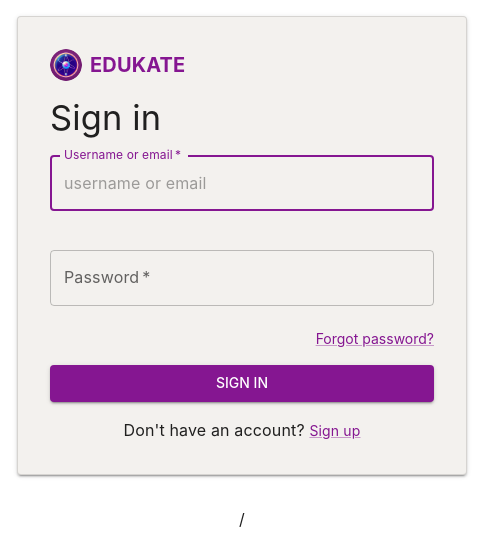
Test: SignInPage › navigates to /sign-up when the sign up link is clicked
Check: the text with test id "pathname" reads "/", box [239,509,245,529]
Click the link "Sign up": (335, 430) [309,422,360,439]
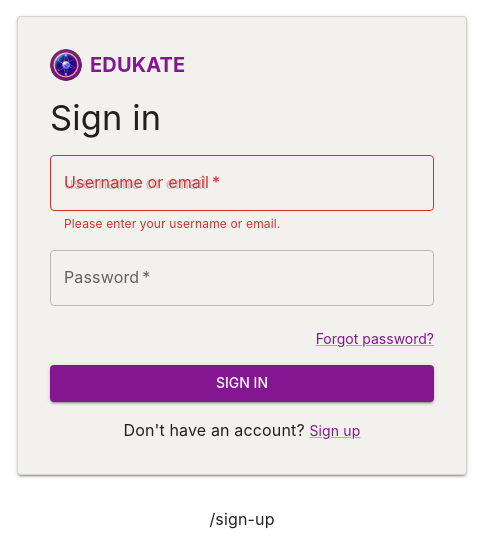
Check: the text with test id "pathname" reads "/sign-up", box [209,509,275,529]
